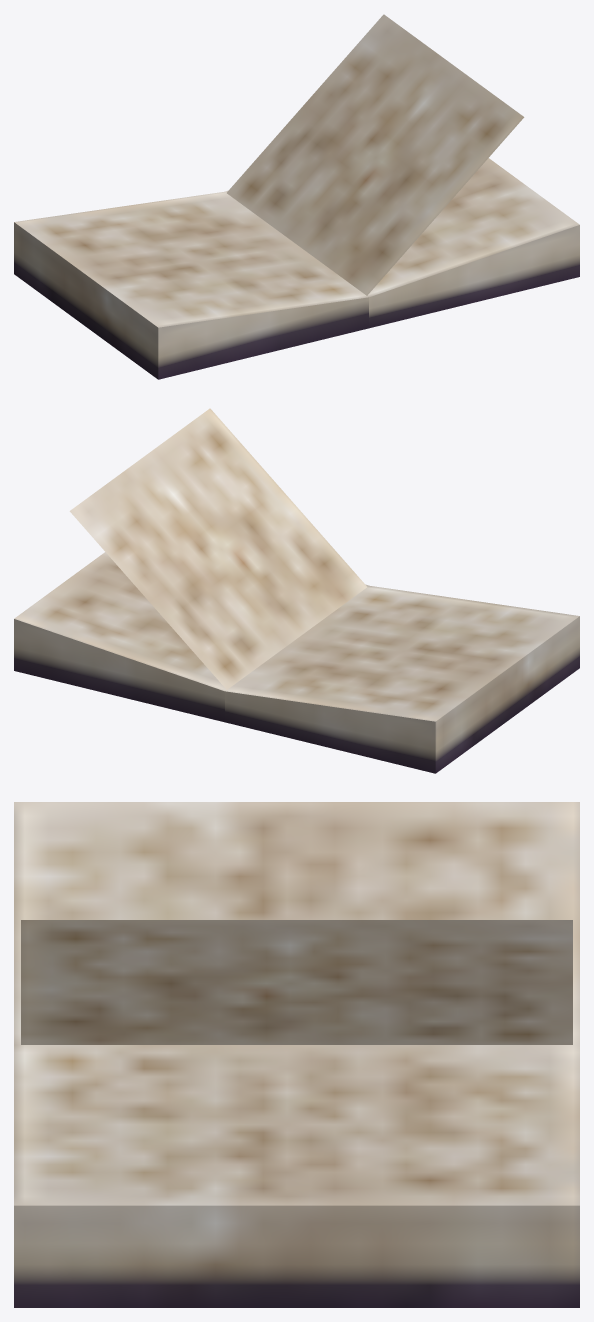
The model's file is etc_prop_9.FBX.
The picture shows the model from 3 angles, top to bottom: view 1: azimuth 30°, elevation 25°; view 2: azimuth 150°, elevation 25°; view 3: azimuth 270°, elevation 25°; orthographic projection. The views are drawn at different scales.
Visible parts, largest first — view 1: etc_prop_9; view 2: etc_prop_9; view 3: etc_prop_9.
Part boxes in pixels (x1,y1,x2,y2): etc_prop_9: (14,14,579,379); etc_prop_9: (14,408,579,773); etc_prop_9: (14,802,579,1307).
Size of the model in its own units: 28.62 by 11.12 by 16.97.
